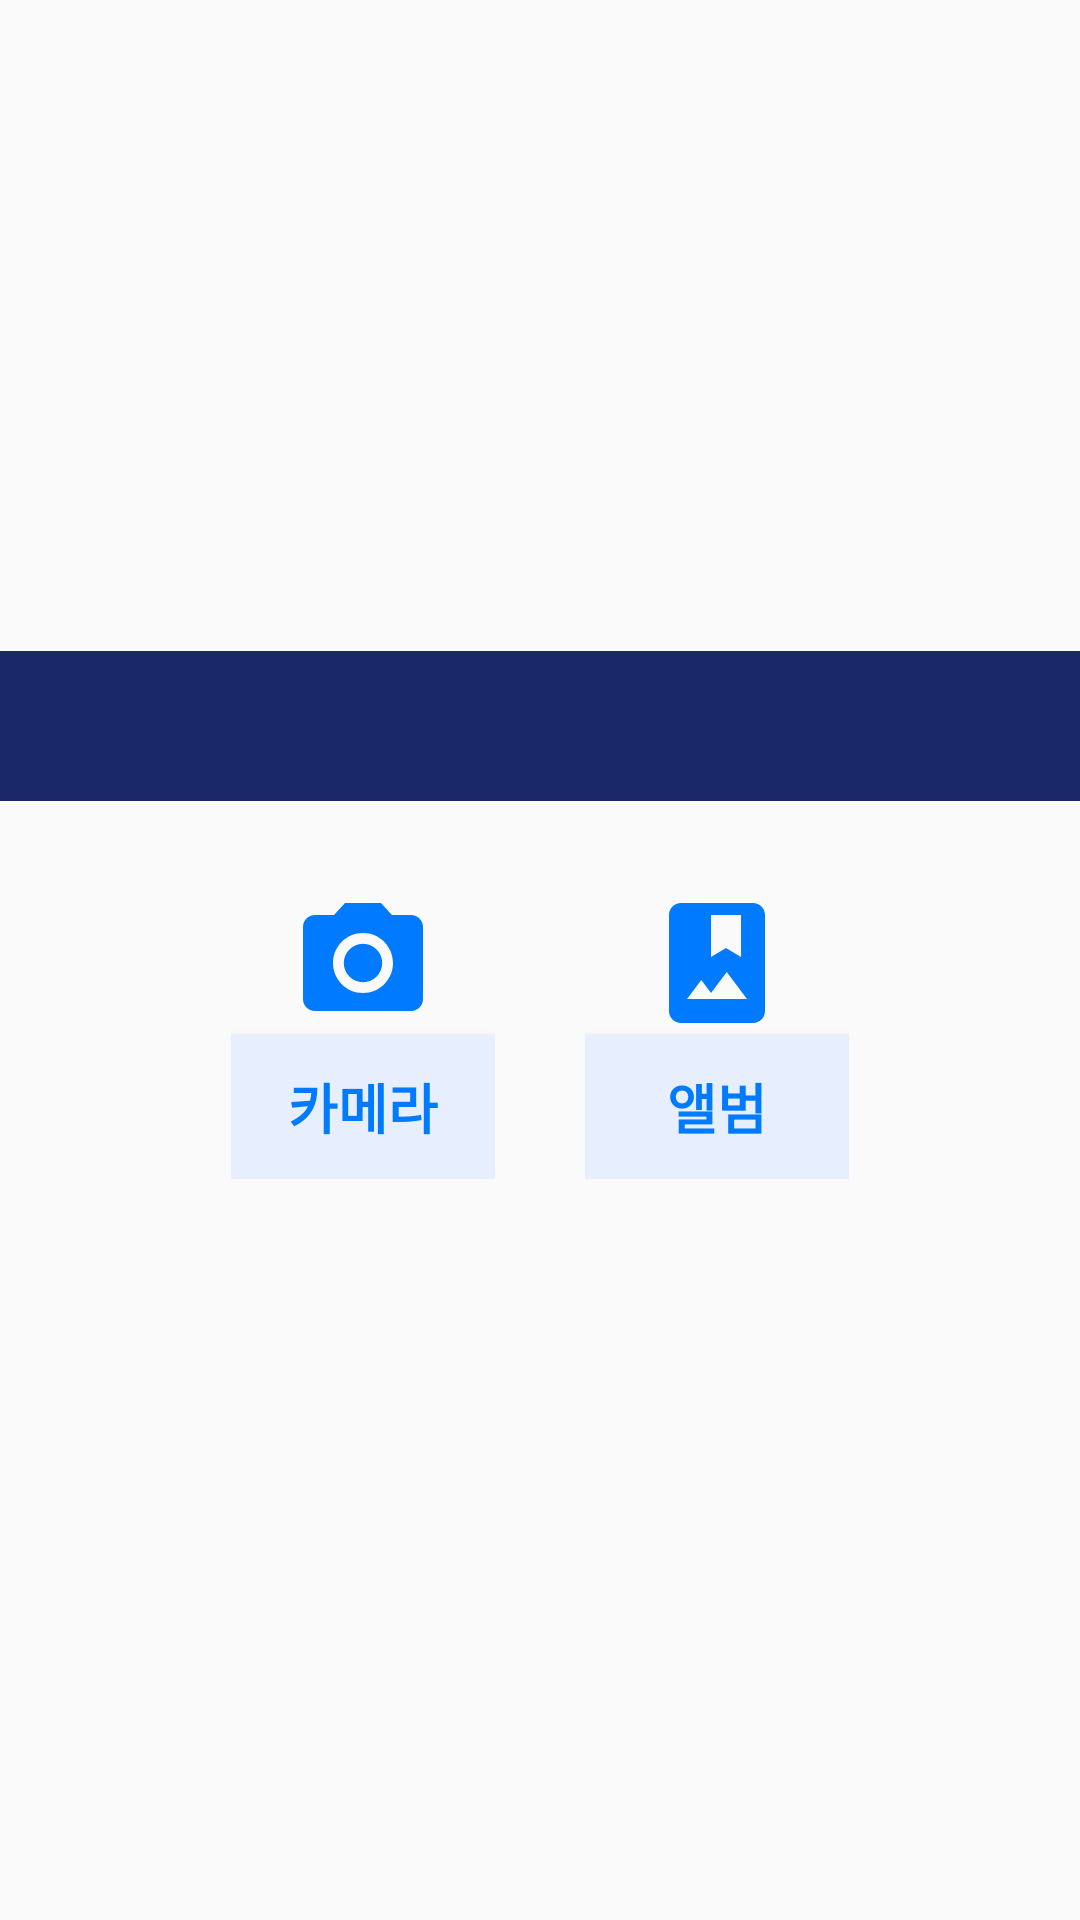

Where to tap for icons on this 1080w x 1920h app screen, as (x=x, y=y):
photo album: (x=717, y=963)
photo camera: (x=363, y=957)
